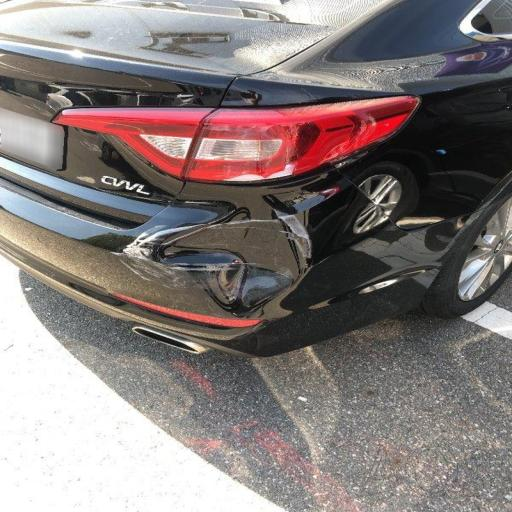dent: (133, 190, 382, 336)
scratch: (222, 0, 484, 116)
